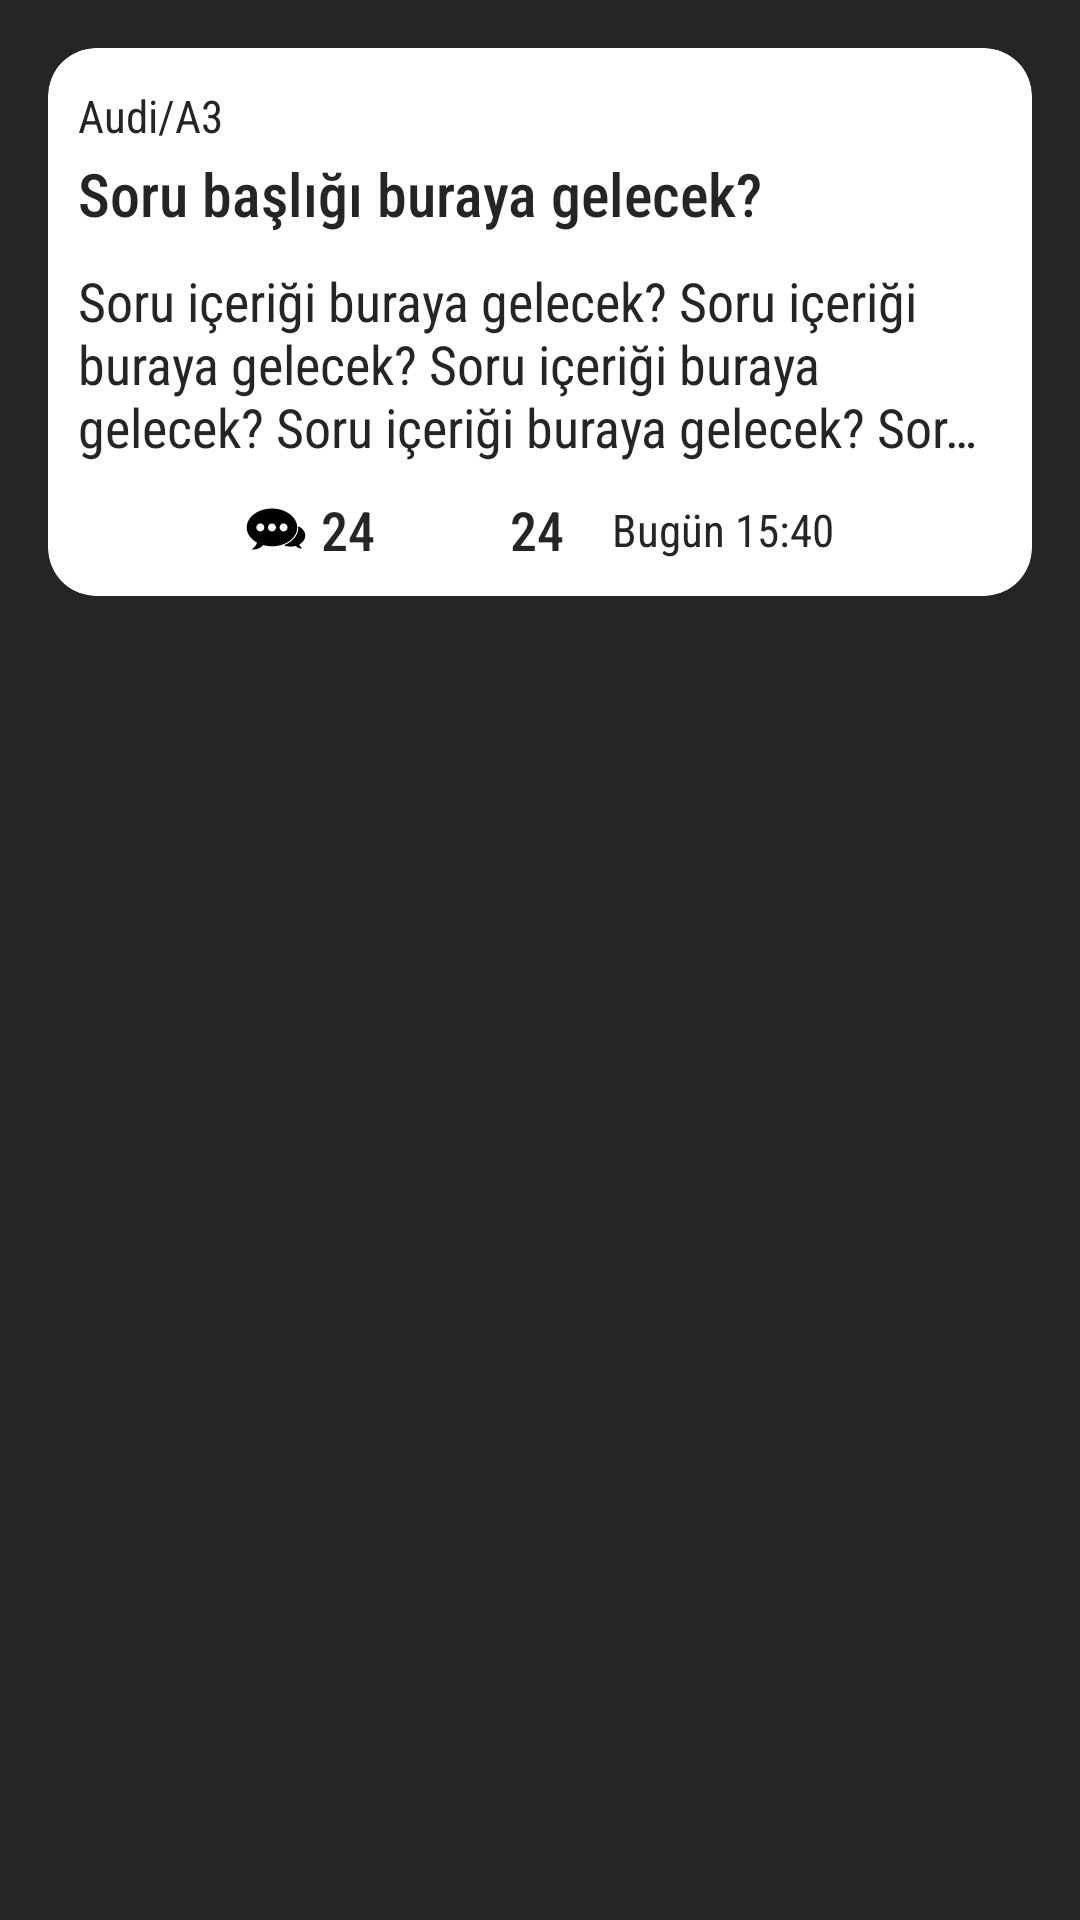

Named icons in this screenshot (1080px×1920px) and their centers, [x,y]:
dialog: [276,529]
